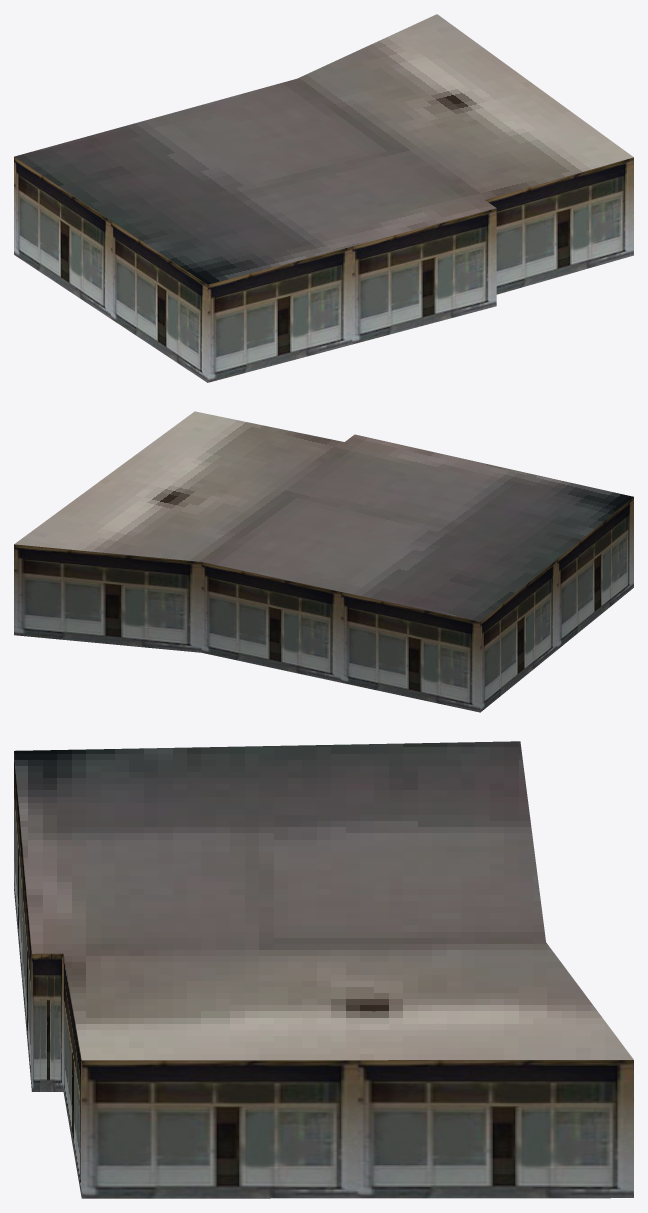
The picture shows the model from 3 angles, top to bottom: view 1: azimuth 30°, elevation 25°; view 2: azimuth 150°, elevation 25°; view 3: azimuth 270°, elevation 25°; orthographic projection. The views are drawn at different scales.
Visible parts, largest first — view 1: SketchUp (×4); view 2: SketchUp (×4); view 3: SketchUp (×5).
Boxes of the visible parts, bbox=[...] form: SketchUp (×4): bbox=[14, 14, 633, 382]; SketchUp (×4): bbox=[14, 411, 633, 712]; SketchUp (×5): bbox=[14, 741, 633, 1198].
Bounding box in the file's own units: 13.22 × 10.85 × 2.67.
Materials: 2 (2 with a texture image).
